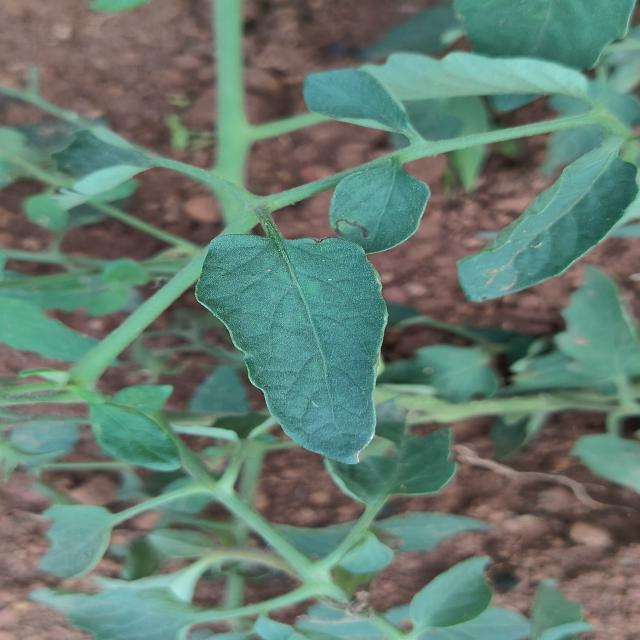tomato_healthy: (193, 229, 388, 461), (329, 148, 428, 251)
